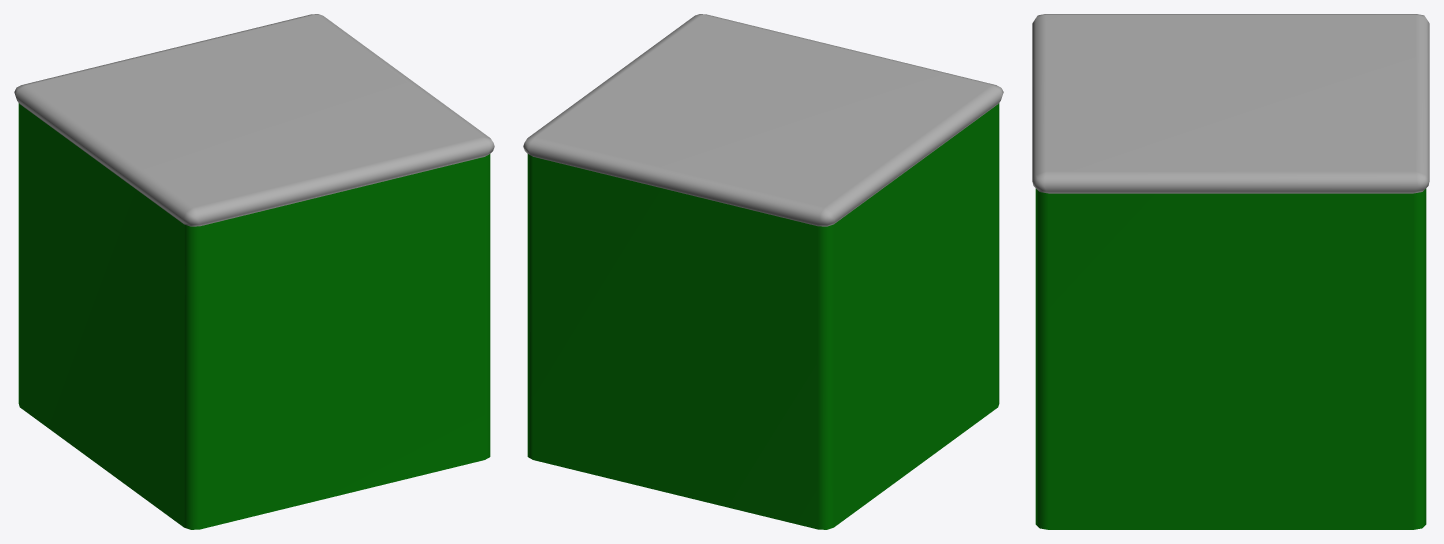
File: Terreno_Piccolo.fbx
3 views of the same model, side by side, from view 1: azimuth 30°, elevation 25°; view 2: azimuth 150°, elevation 25°; view 3: azimuth 270°, elevation 25° (orthographic). The views are drawn at different scales.
Visible parts, largest first — view 1: Terreno_Piccolo; view 2: Terreno_Piccolo; view 3: Terreno_Piccolo.
Boxes of the visible parts, x1,y1,x2,y2 form: Terreno_Piccolo: (14,14,494,529); Terreno_Piccolo: (523,14,1003,529); Terreno_Piccolo: (1032,14,1429,529).
Size of the model in its own units: 203 by 200 by 203.
